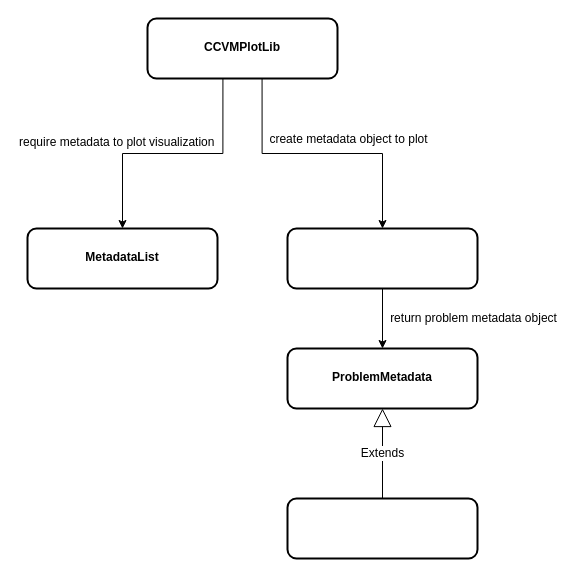
Image size: 573x576. Some labels were removed from this diagram. The shapes that lost their labels are listed below. From the top down, each one's centre as x and y in pixels, then its label:
point (382, 258): ProblemMetadataFactory
point (382, 528): BoxQPMetadata
